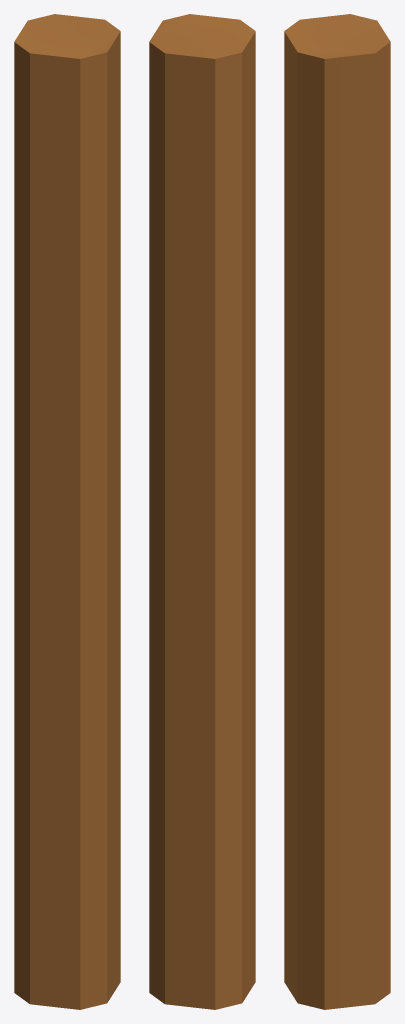
The model's file is Pillar_Wood_03.fbx.
3 renders of one model, left to right at view 1: azimuth 30°, elevation 25°; view 2: azimuth 210°, elevation 25°; view 3: azimuth 330°, elevation 25°, orthographic.
Visible parts, largest first — view 1: Pillar_Wood_03; view 2: Pillar_Wood_03; view 3: Pillar_Wood_03.
Boxes of the visible parts, x1,y1,x2,y2 form: Pillar_Wood_03: (14, 14, 120, 1009); Pillar_Wood_03: (149, 14, 255, 1009); Pillar_Wood_03: (284, 14, 390, 1009).
Size of the model in its own units: 0.4 by 4 by 0.4.
